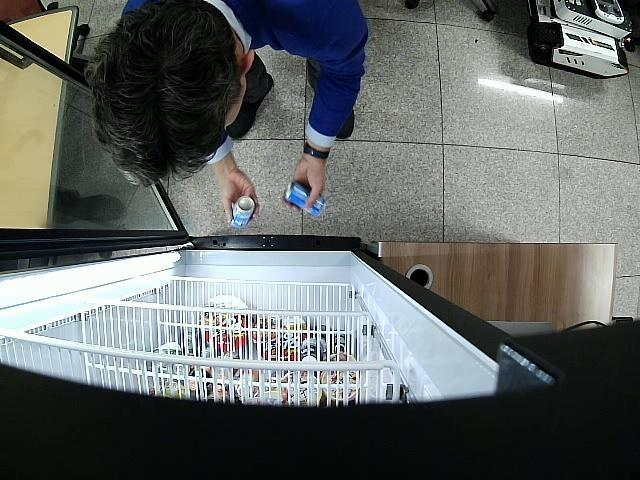15_letsbe: (284, 182, 325, 217), (230, 196, 255, 229)
